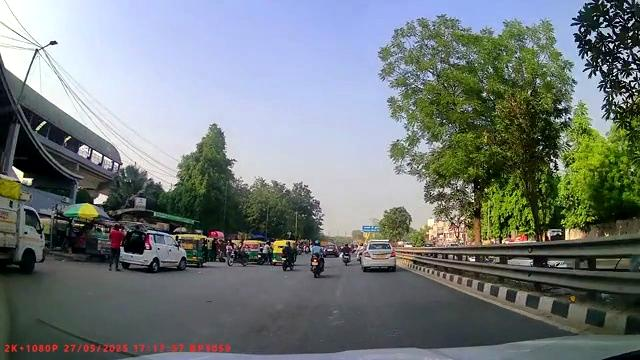motorcycle_with_helmet: (309, 239, 327, 278)
